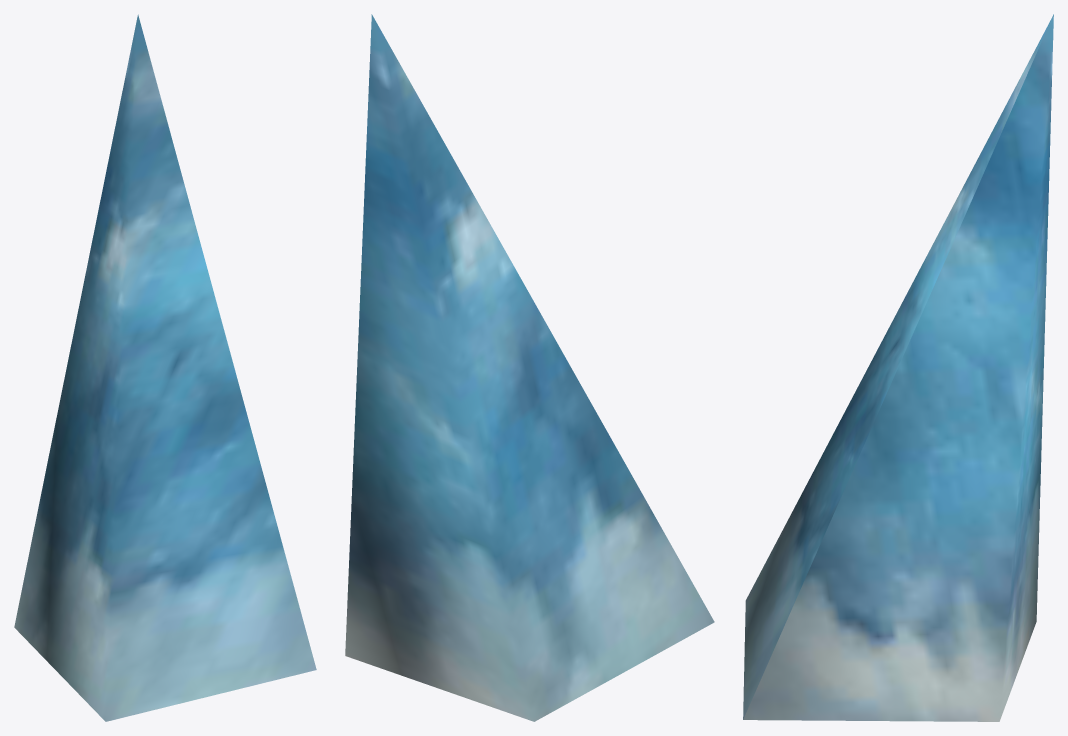
Rendered from h5_xuesuish_j.FBX.
The picture shows the model from 3 angles, left to right: view 1: azimuth 30°, elevation 25°; view 2: azimuth 150°, elevation 25°; view 3: azimuth 270°, elevation 25°; orthographic projection. The views are drawn at different scales.
Visible parts, largest first — view 1: h5_xuesuish_j; view 2: h5_xuesuish_j; view 3: h5_xuesuish_j.
Part boxes in pixels (<box>): h5_xuesuish_j: <box>14,14,316,721</box>; h5_xuesuish_j: <box>345,14,714,721</box>; h5_xuesuish_j: <box>743,14,1053,721</box>.
Bounding box in the file's own units: 0.2585 × 0.678 × 0.2794.
